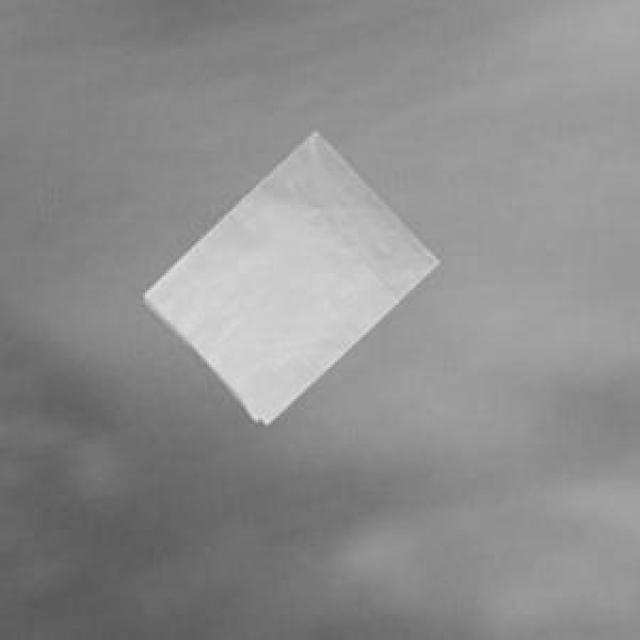paper: (141, 128, 433, 420)
